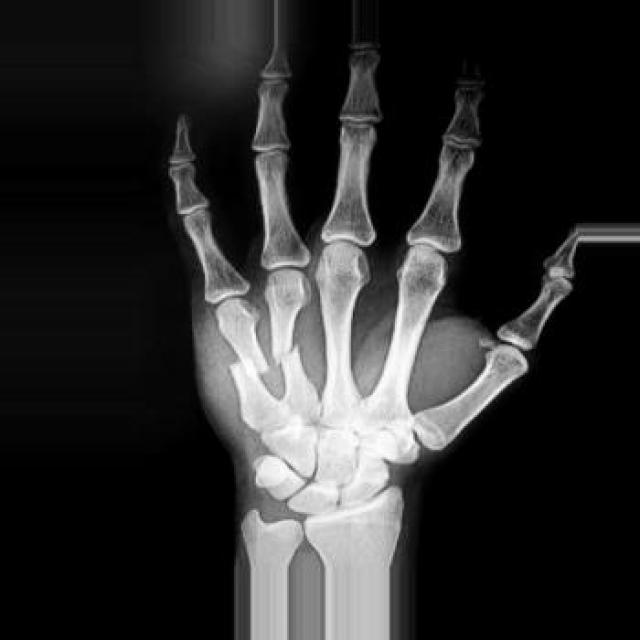Fracture: (220, 356, 274, 379), (274, 338, 304, 361)
